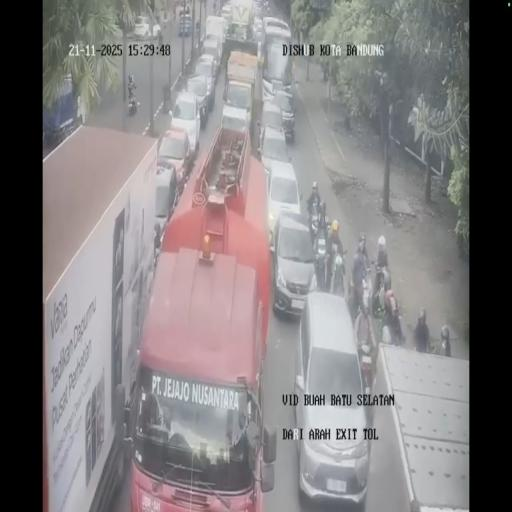car: (291, 289, 368, 505), (270, 208, 316, 318), (153, 164, 179, 252), (167, 98, 201, 162), (257, 100, 287, 156), (219, 99, 252, 149), (200, 39, 222, 83), (268, 77, 290, 106), (252, 16, 263, 44), (220, 2, 232, 27), (134, 14, 150, 28), (252, 0, 262, 18)
motorcycle: (312, 221, 332, 288), (357, 336, 376, 394), (348, 274, 366, 324), (331, 254, 347, 297), (372, 261, 390, 295), (128, 87, 138, 116)
truck: (376, 342, 468, 510), (260, 16, 292, 78)
